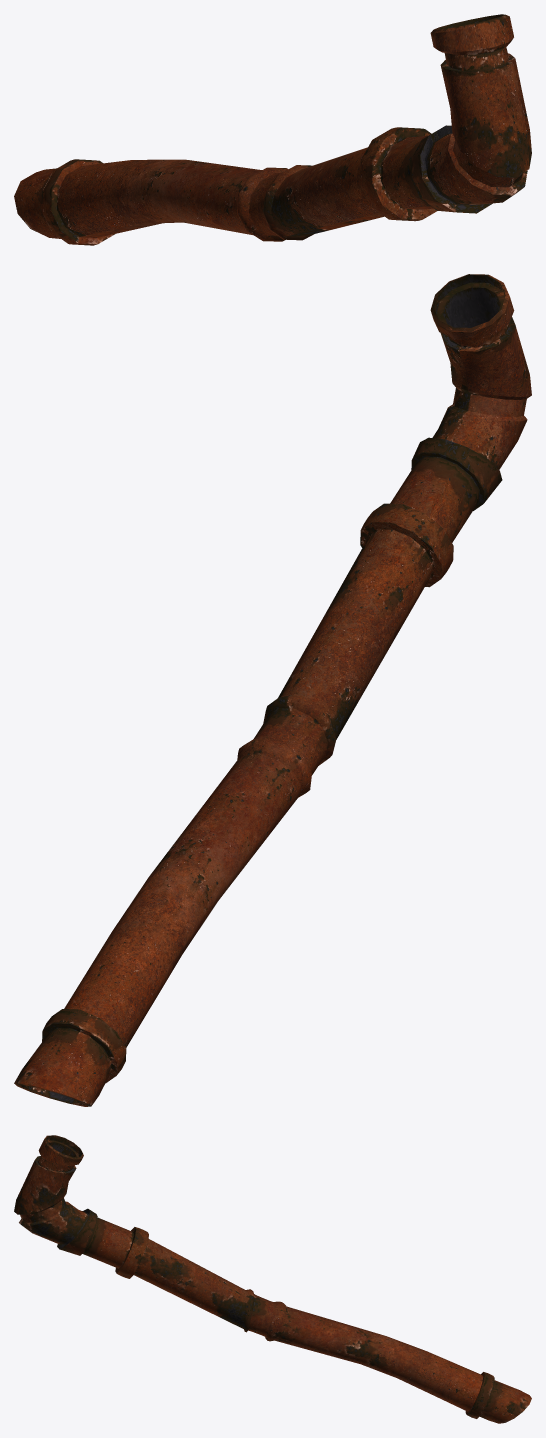
Rendered from rusty_cast_iron_pipe.glb.
3 views of the same model, one above another, from view 1: azimuth 30°, elevation 25°; view 2: azimuth 150°, elevation 25°; view 3: azimuth 270°, elevation 25° (orthographic). The views are drawn at different scales.
Visible parts, largest first — view 1: Pipe; view 2: Pipe; view 3: Pipe.
Boxes of the visible parts, left/top/right/bottom form: Pipe: left=14, top=14, right=531, bottom=245; Pipe: left=14, top=274, right=531, bottom=1106; Pipe: left=14, top=1135, right=531, bottom=1423.
Size of the model in its own units: 0.012 by 0.0723 by 0.1204.
Materials: 1 (1 with a texture image).
